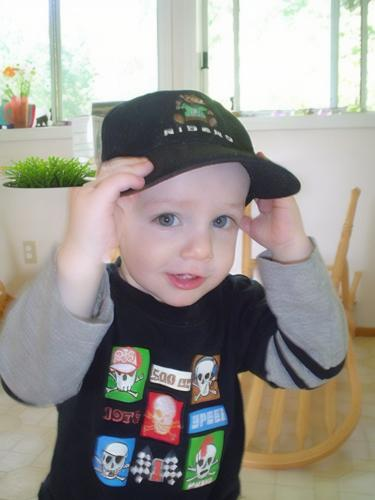chair: (239, 153, 365, 468)
person: (1, 89, 351, 500)
person/hand: (64, 155, 154, 273), (237, 152, 307, 252)
person/head: (115, 119, 252, 307)
pottedplant: (4, 156, 101, 187)
